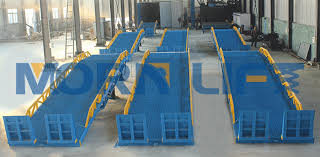Yard Ramp: (2, 50, 127, 147), (218, 46, 315, 145), (116, 49, 195, 150), (107, 28, 142, 51), (211, 23, 246, 46), (157, 27, 188, 50)
